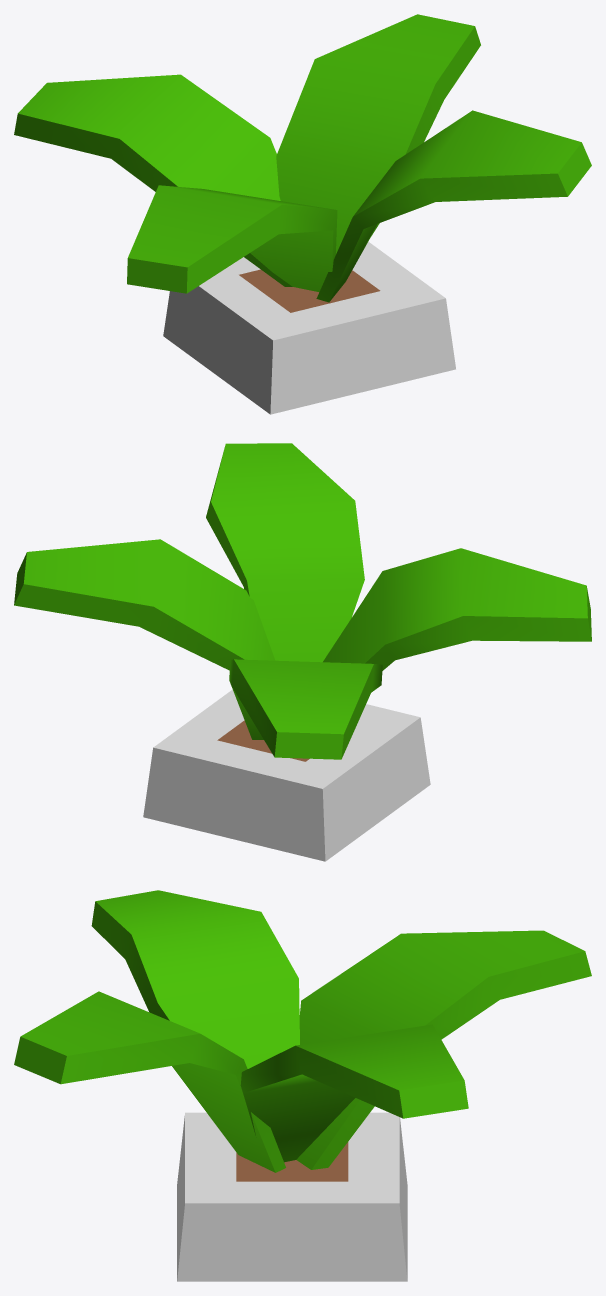
File: plant_01.fbx
3 renders of one model, top to bottom at view 1: azimuth 30°, elevation 25°; view 2: azimuth 150°, elevation 25°; view 3: azimuth 270°, elevation 25°, orthographic. The views are drawn at different scales.
Parts seen in each view (by area): view 1: pCube175, pasted__pCube154, pasted__pCube155, pasted__pCube156, pasted__pCube153; view 2: pCube175, pasted__pCube153, pasted__pCube156, pasted__pCube154, pasted__pCube155; view 3: pCube175, pasted__pCube156, pasted__pCube155, pasted__pCube154, pasted__pCube153.
Boxes of the visible parts, box(x1,y1,x2,y2) form: pCube175: box(163, 241, 455, 414); pasted__pCube154: box(276, 14, 480, 253); pasted__pCube155: box(14, 74, 292, 286); pasted__pCube156: box(127, 185, 337, 293); pasted__pCube153: box(316, 110, 591, 302); pCube175: box(143, 689, 430, 861); pasted__pCube153: box(206, 443, 364, 662); pasted__pCube156: box(323, 548, 591, 670); pasted__pCube154: box(14, 539, 275, 670); pasted__pCube155: box(229, 659, 382, 759); pCube175: box(177, 1112, 407, 1281); pasted__pCube156: box(91, 890, 299, 1068); pasted__pCube155: box(296, 930, 591, 1169); pasted__pCube154: box(240, 1024, 468, 1162); pasted__pCube153: box(14, 991, 285, 1172).
Bounding box in the file's own units: 1.61 × 0.8063 × 1.6.
